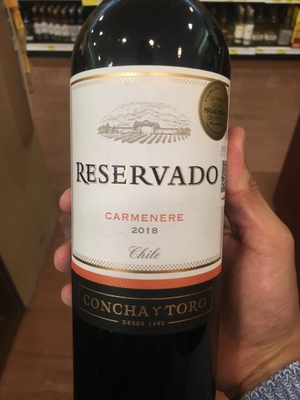reservado carmenere: (65, 9, 234, 400)
